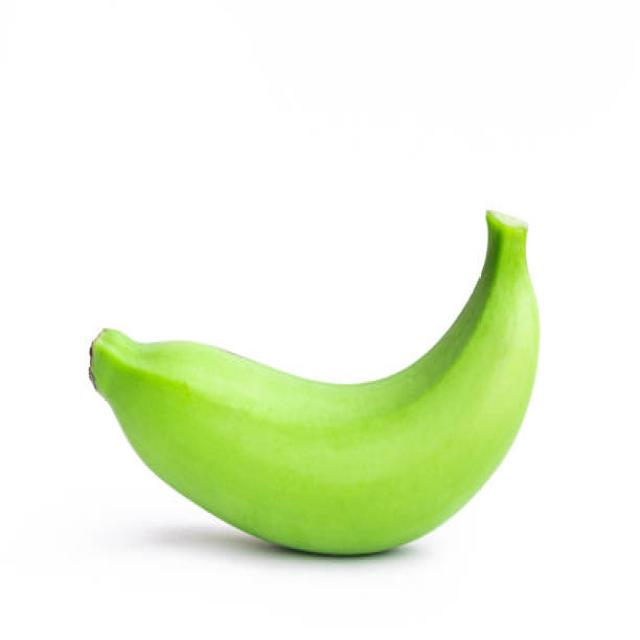banana: (86, 209, 543, 556)
